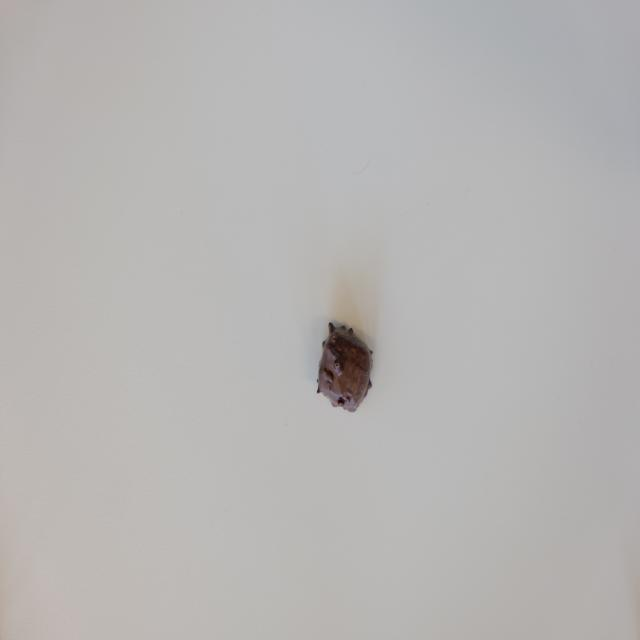Tentation_noir: (317, 322, 373, 413)
